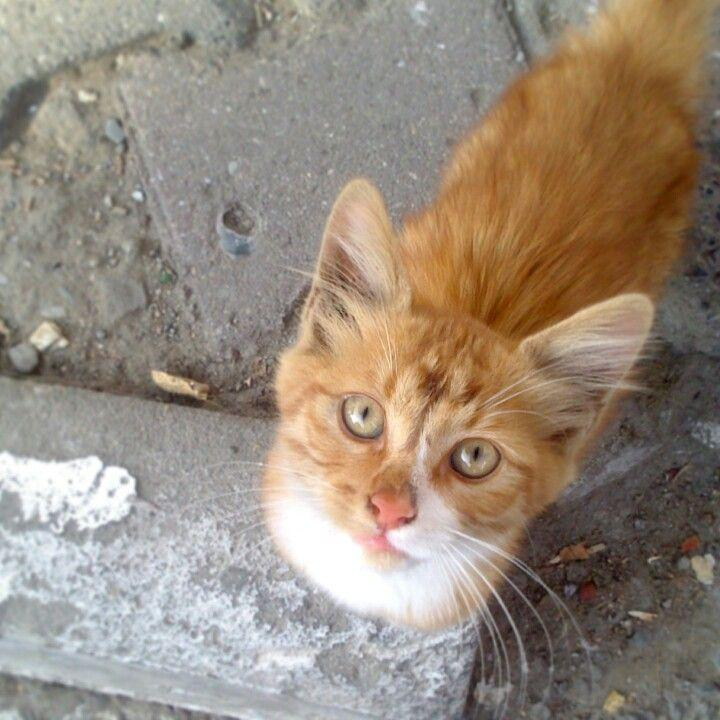kedo: (269, 0, 702, 634)
